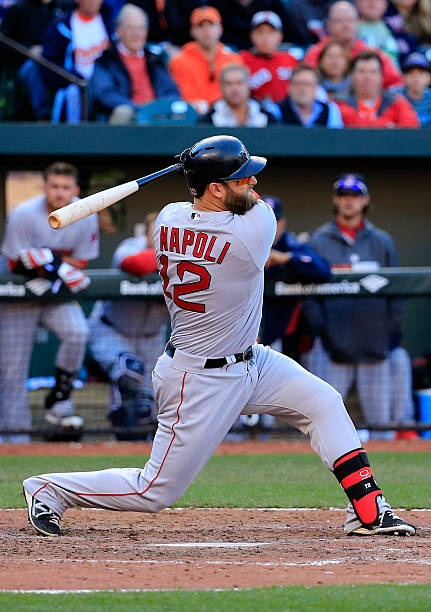bita: (47, 146, 195, 233)
